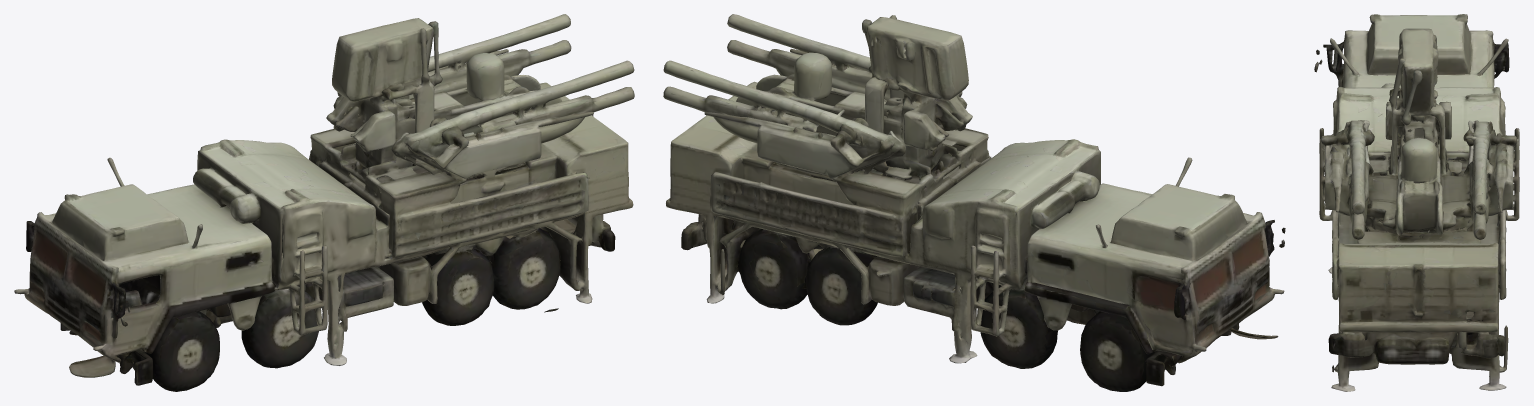
The model's file is pantsir_trellis.glb.
3 views of the same model, side by side, from view 1: azimuth 30°, elevation 25°; view 2: azimuth 150°, elevation 25°; view 3: azimuth 270°, elevation 25° (orthographic). The views are drawn at different scales.
Visible parts, largest first — view 1: world; view 2: world; view 3: world.
Part boxes in pixels (left/top/right/bottom): world: left=14, top=14, right=634, bottom=391; world: left=663, top=14, right=1285, bottom=391; world: left=1314, top=14, right=1519, bottom=391.
Size of the model in its own units: 1 by 0.4849 by 0.3346.
Materials: 1 (1 with a texture image).
